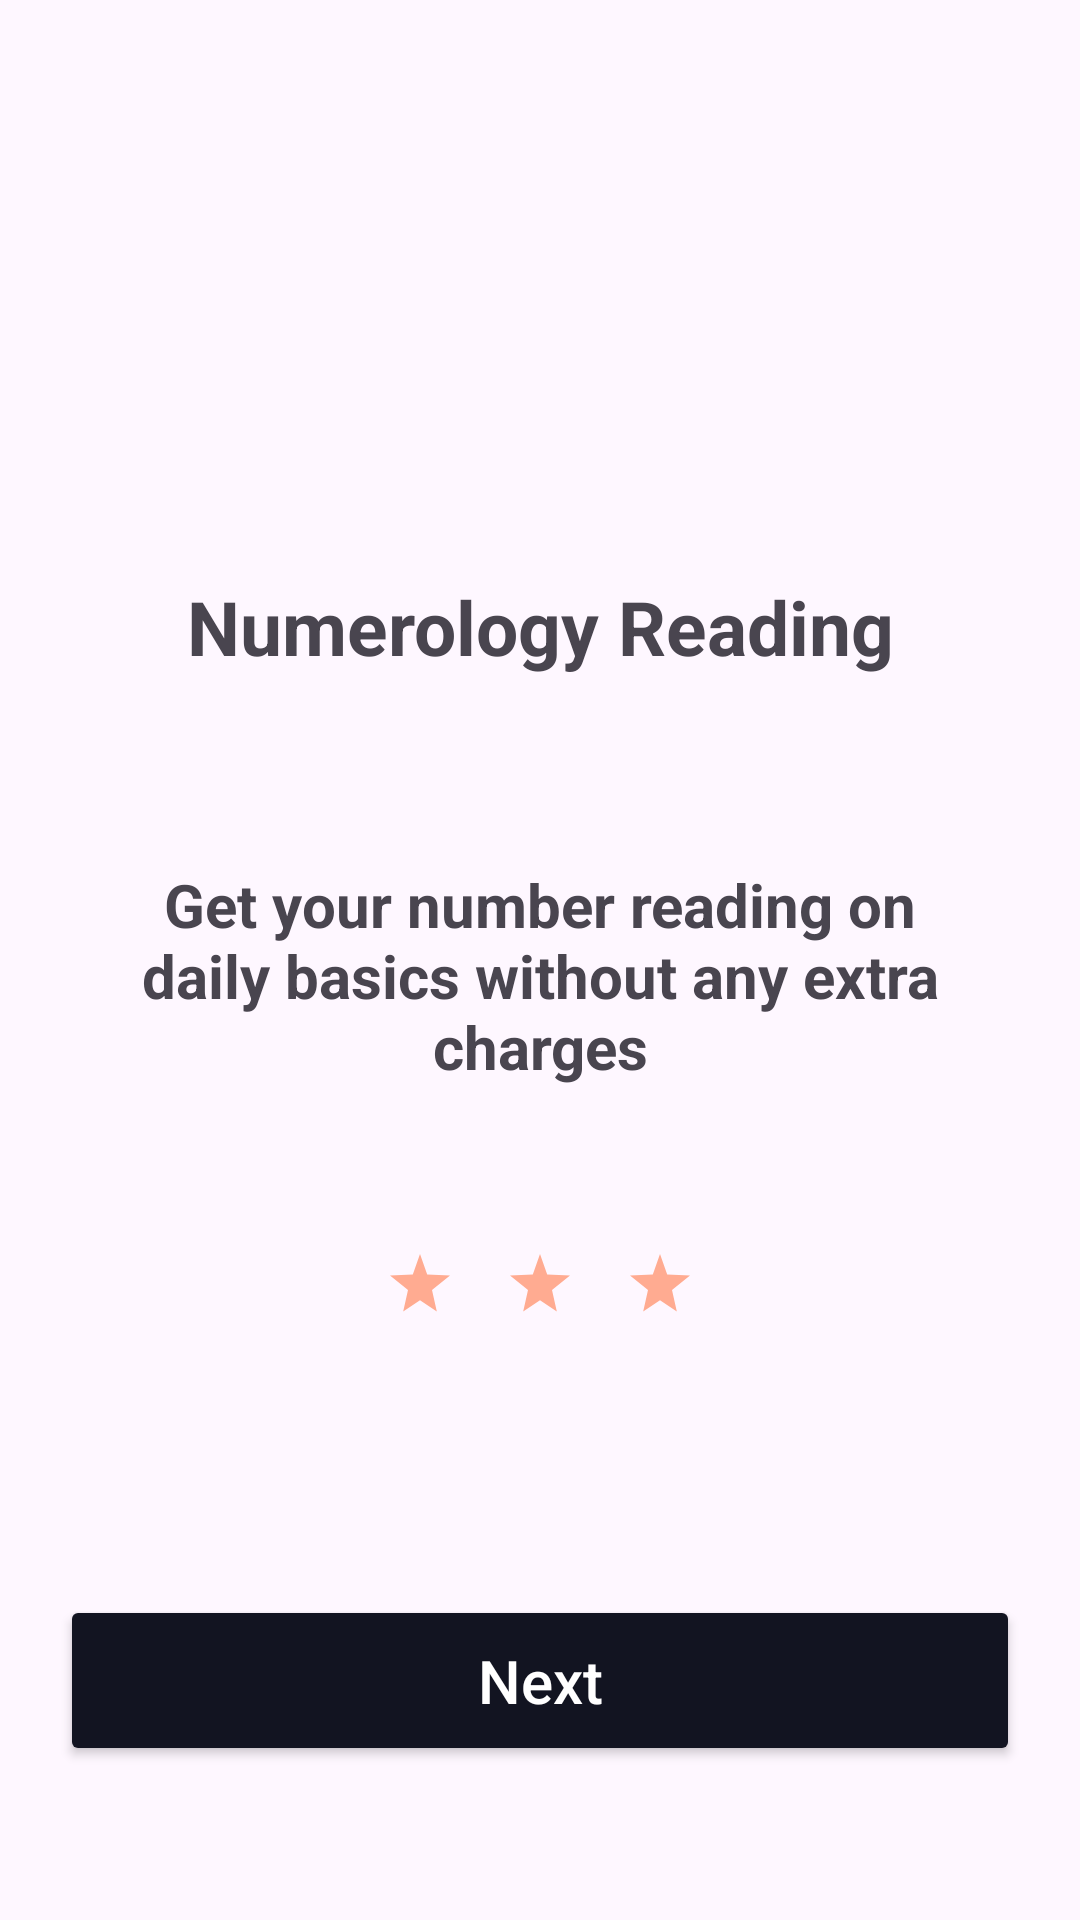

Named icons in this screenshot (1080 × 1920) and their centers, (x,y):
star: (420,1283), (540,1283), (660,1283)
